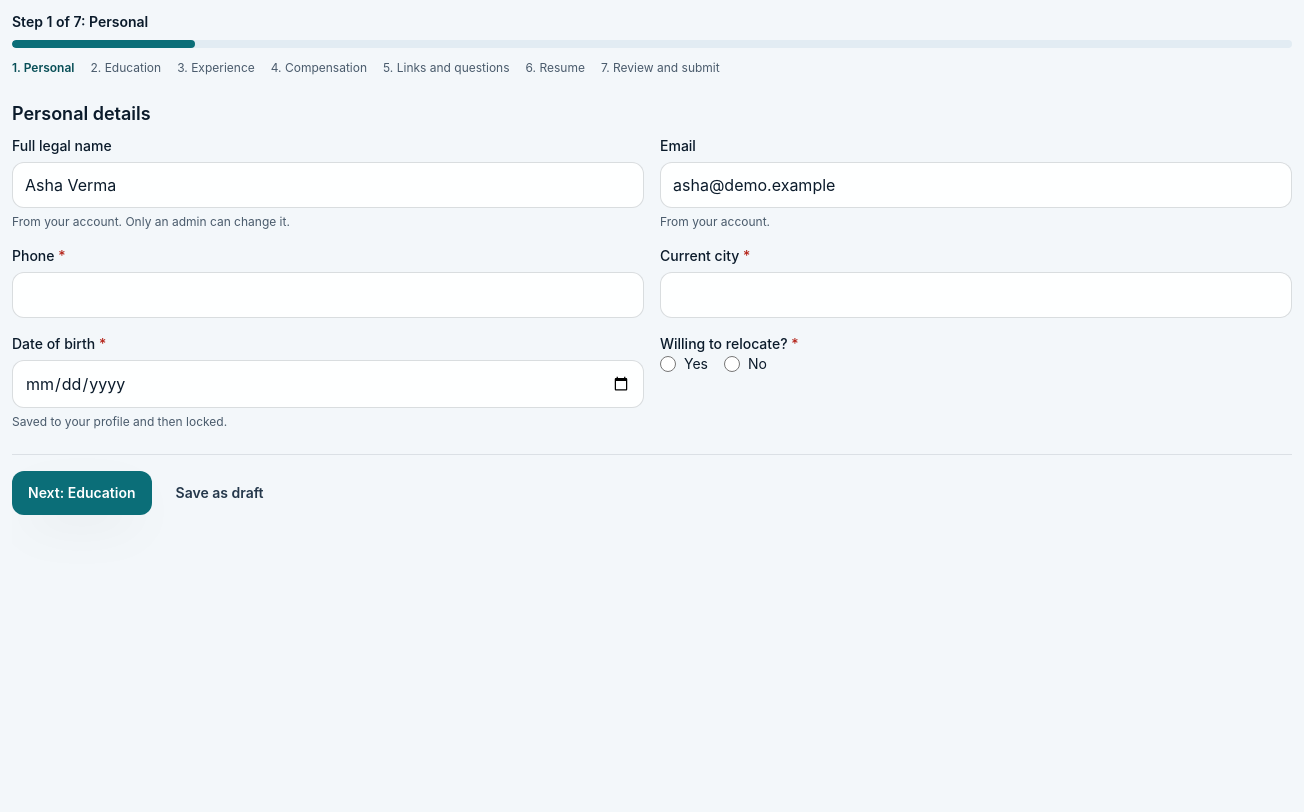
Test case: apply form › shows progress and checks each step before moving on
Expected: the text "Step 1 of 7: Personal" is shown, [12,13,148,30]
Click the button "Next: Education".
click(82, 493)  # box [12,471,152,515]
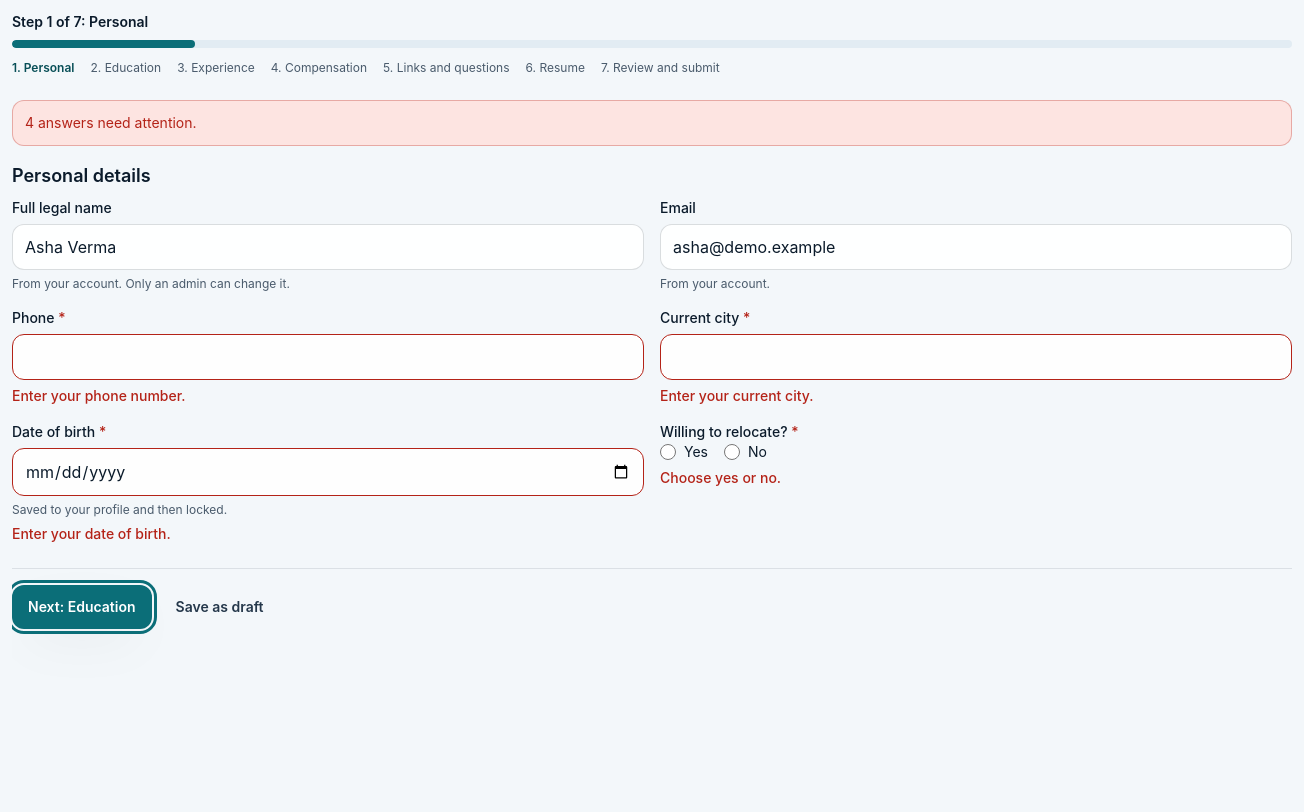
Expected: the text "Step 1 of 7: Personal" is shown, [12,13,148,30]
Now the text "Enter your phone number." is shown, box [12,387,186,404]
Now the text "Choose yes or no." is shown, box [660,469,781,486]
